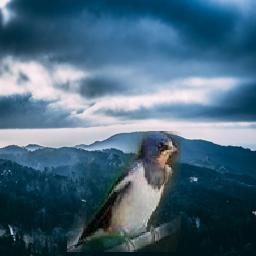Swallow: (67, 132, 181, 253)
